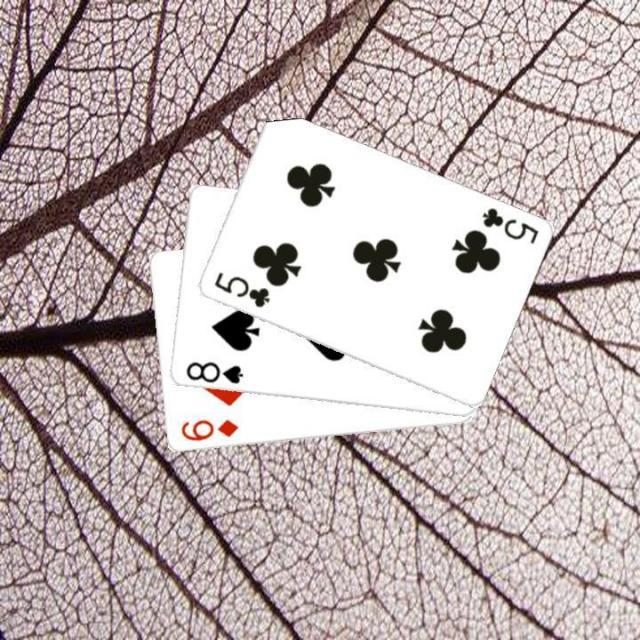5C: (209, 269, 271, 311), (478, 204, 540, 246)
6D: (176, 416, 240, 444)
8S: (182, 358, 246, 386)
